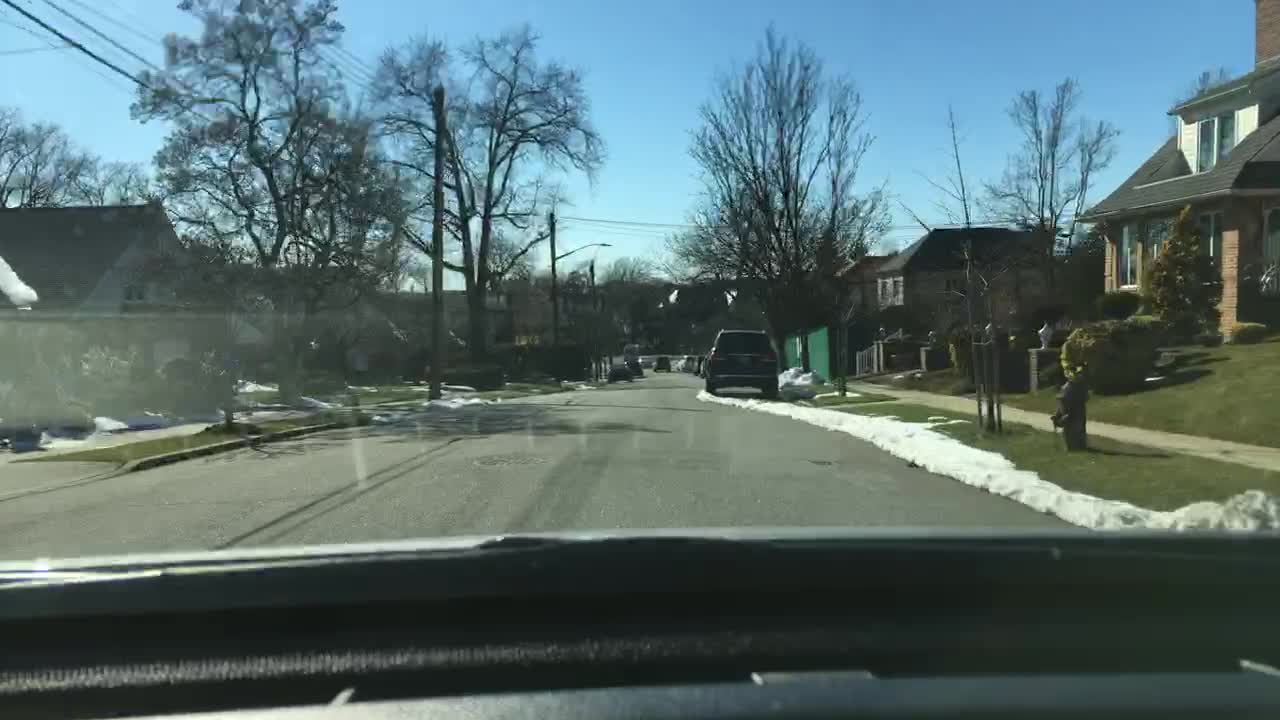car: (702, 330, 780, 394), (675, 351, 700, 373), (606, 362, 632, 382), (622, 359, 645, 377), (651, 355, 671, 374), (622, 343, 639, 361), (637, 358, 655, 367)
